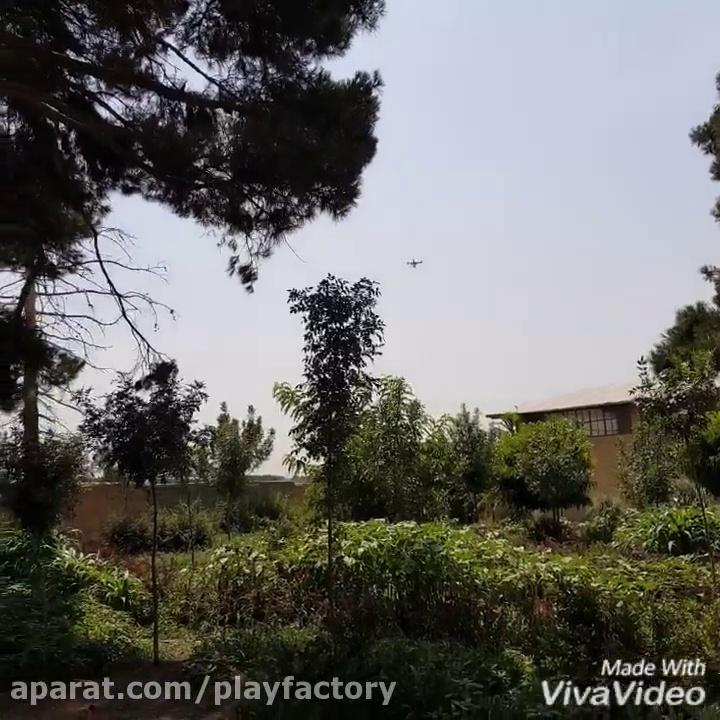drone: (403, 253, 424, 271)
